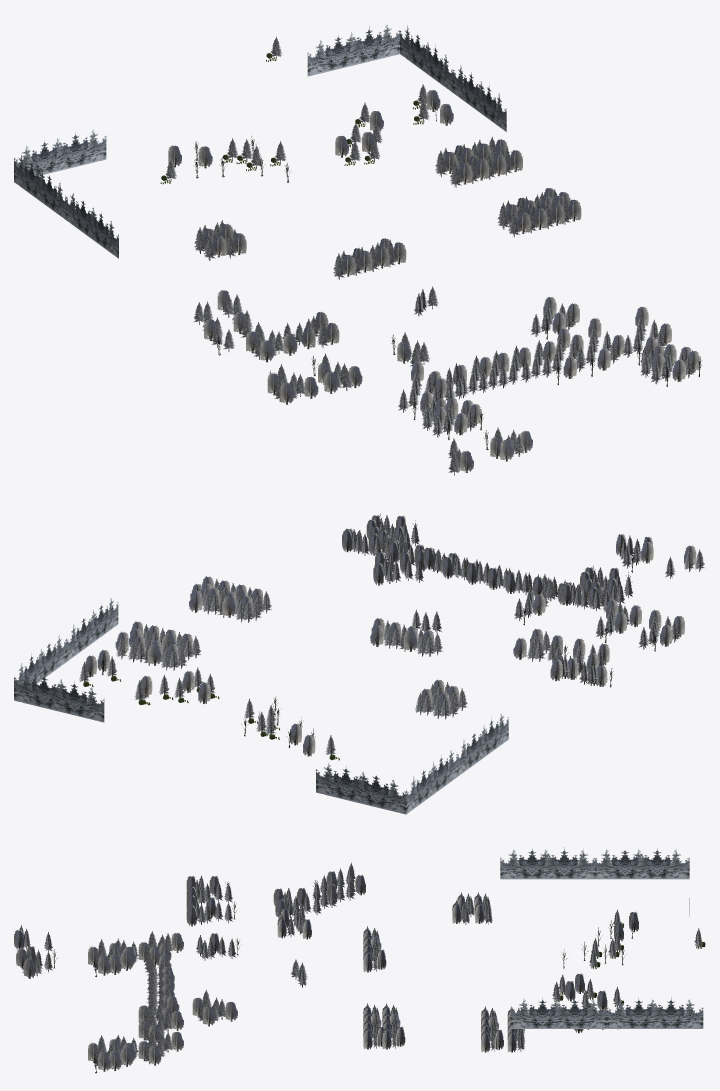
Rendered from Trees.fbx.
3 views of the same model, one above another, from view 1: azimuth 30°, elevation 25°; view 2: azimuth 150°, elevation 25°; view 3: azimuth 270°, elevation 25° (orthographic). The views are drawn at different scales.
Visible parts, largest first — view 1: Trees1; view 2: Trees1; view 3: Trees1.
Part boxes in pixels (bbox=[...]): Trees1: bbox=[14, 23, 701, 475]; Trees1: bbox=[14, 513, 704, 814]; Trees1: bbox=[14, 847, 705, 1073].
Size of the model in its own units: 13150 by 3715 by 21710.
